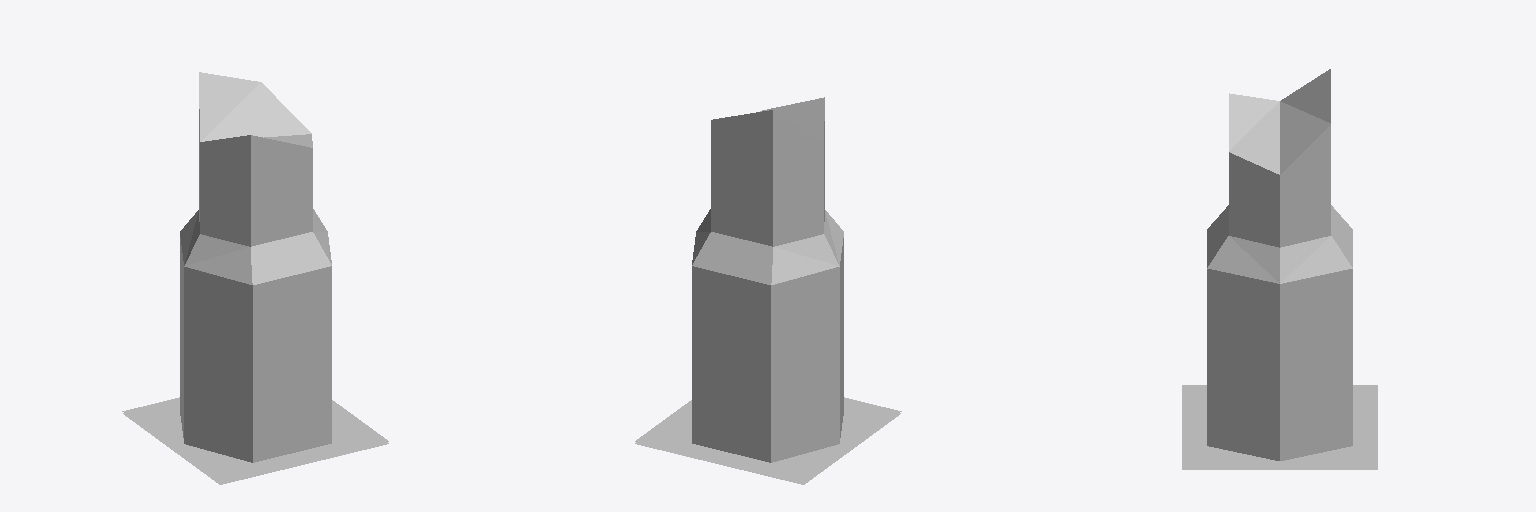
The model's file is gasfucet.obj.
3 views of the same model, side by side, from view 1: azimuth 30°, elevation 25°; view 2: azimuth 150°, elevation 25°; view 3: azimuth 270°, elevation 25° (orthographic).
Visible parts, largest first — view 1: Cube; view 2: Cube; view 3: Cube.
Boxes of the visible parts, x1=… form: Cube: x1=122, y1=72, x2=388, y2=484; Cube: x1=635, y1=97, x2=901, y2=484; Cube: x1=1182, y1=69, x2=1377, y2=469.
Size of the model in its own units: 2.98 by 5.8 by 2.98.